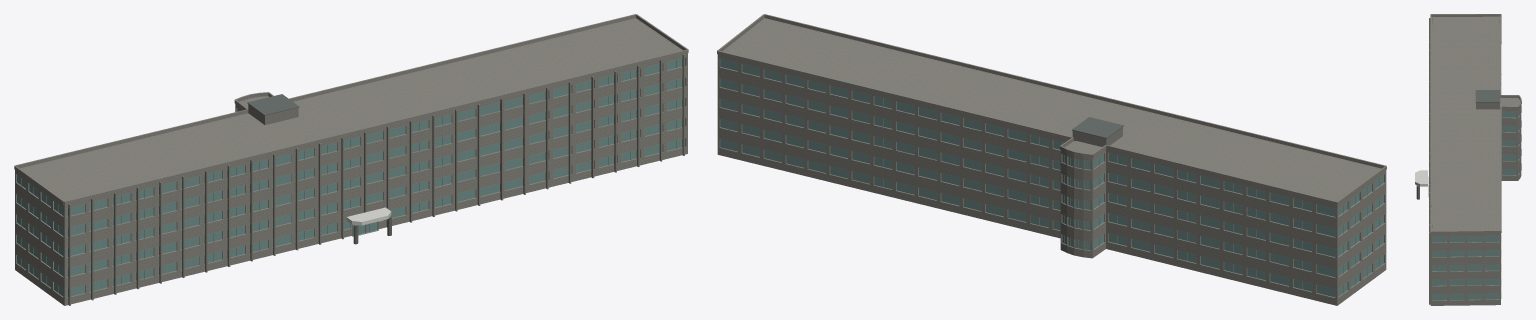
The picture shows the model from 3 angles, left to right: view 1: azimuth 30°, elevation 25°; view 2: azimuth 150°, elevation 25°; view 3: azimuth 270°, elevation 25°; orthographic projection. The views are drawn at different scales.
Parts seen in each view (by area): view 1: medicine__stone, medicine__glass, medicine__cream, medicine__frame, medicine__roof, medicine__light; view 2: medicine__stone, medicine__glass, medicine__frame, medicine__roof, medicine__cream; view 3: medicine__stone, medicine__glass, medicine__frame, medicine__cream, medicine__roof, medicine__light.
Part boxes in pixels (box(x1,y1,x2,y2)): medicine__stone: box(14, 14, 688, 305); medicine__glass: box(17, 58, 685, 297); medicine__cream: box(68, 54, 684, 305); medicine__frame: box(15, 57, 686, 298); medicine__roof: box(247, 94, 299, 115); medicine__light: box(346, 207, 391, 225); medicine__stone: box(717, 14, 1386, 305); medicine__glass: box(720, 58, 1383, 297); medicine__frame: box(719, 58, 1385, 298); medicine__roof: box(1072, 117, 1123, 138); medicine__cream: box(1072, 127, 1122, 146); medicine__stone: box(1430, 14, 1521, 305); medicine__glass: box(1432, 20, 1518, 300); medicine__frame: box(1428, 75, 1521, 300); medicine__cream: box(1429, 18, 1499, 304); medicine__roof: box(1475, 90, 1500, 102); medicine__light: box(1415, 170, 1427, 186).
Size of the model in its own units: 130 by 22.08 by 26.91.
Materials: 7 (3 with a texture image).
